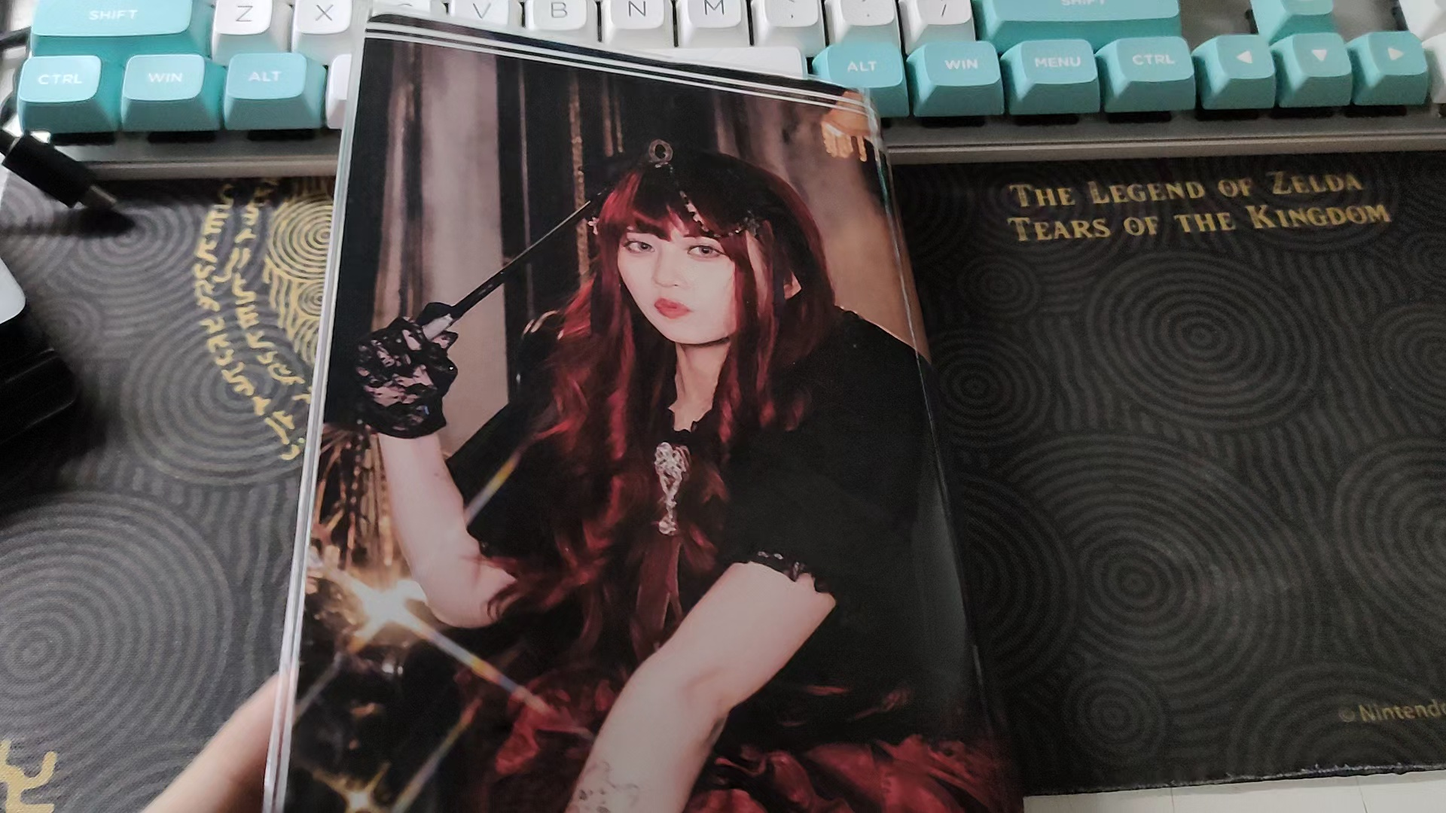Photo_book: (261, 9, 1025, 813)
